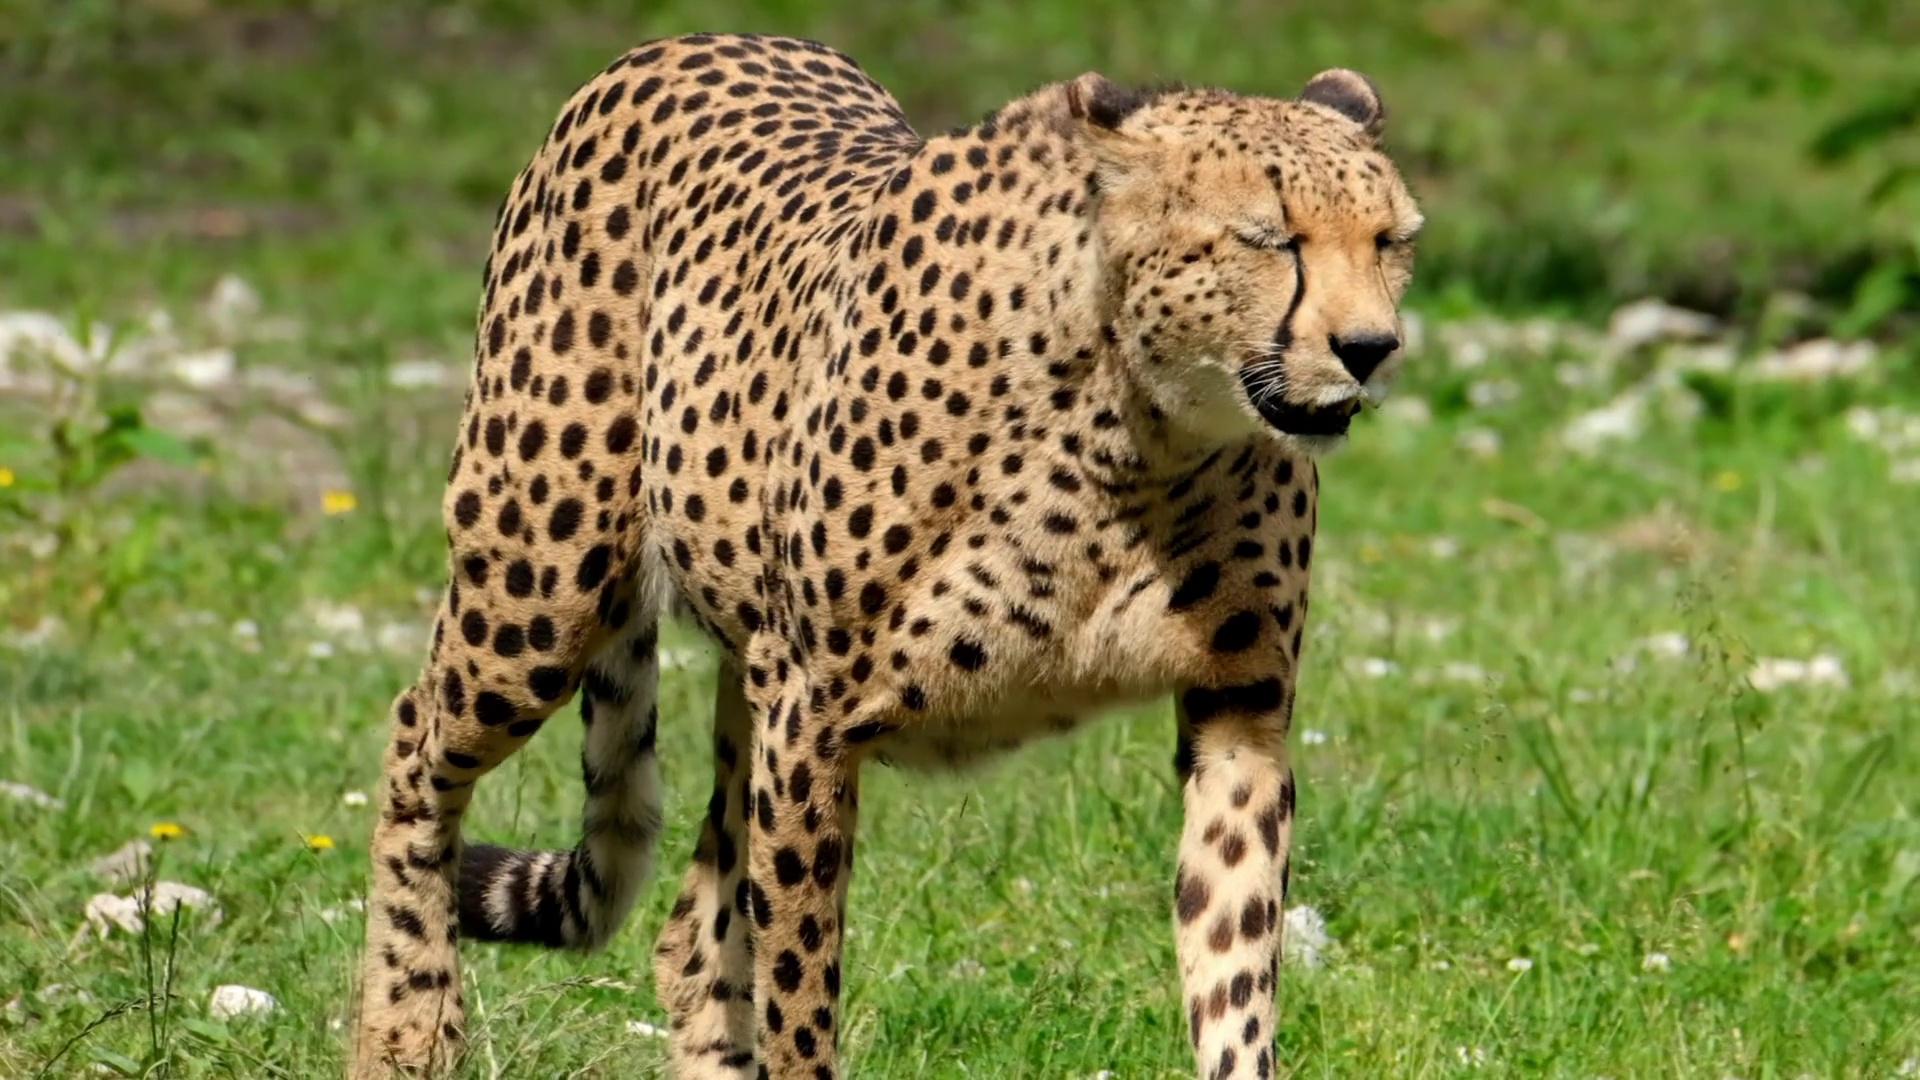Cheetah: (339, 24, 1433, 1080)
